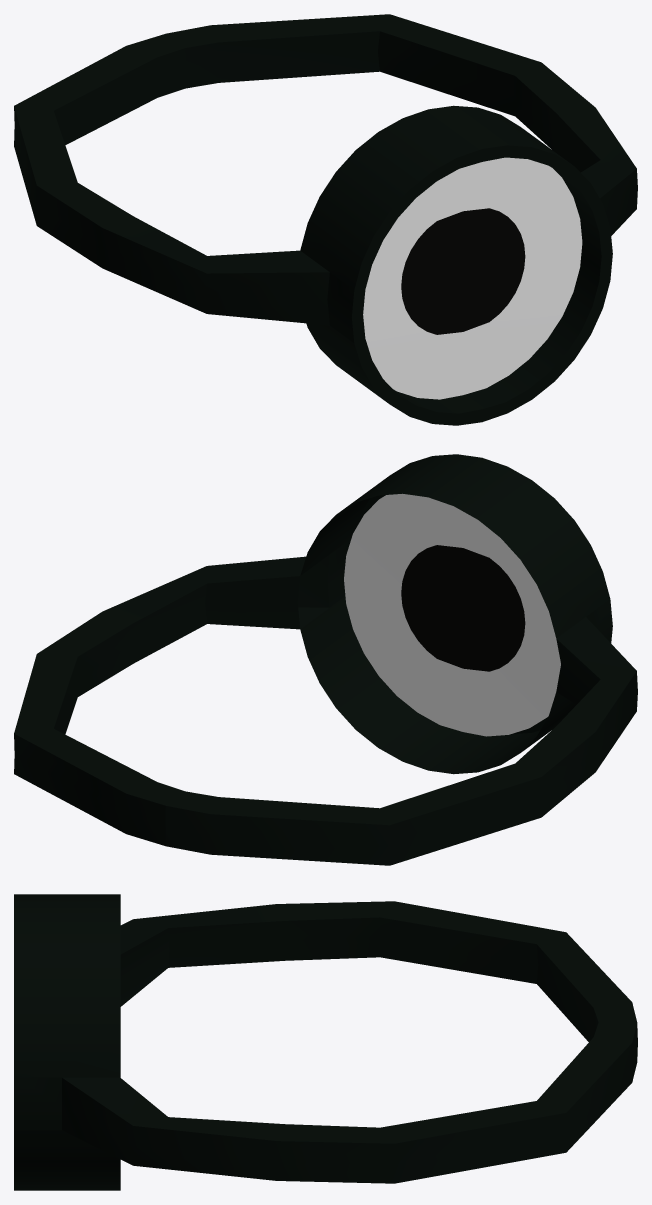
The model's file is Goggles.fbx.
3 renders of one model, top to bottom at view 1: azimuth 30°, elevation 25°; view 2: azimuth 150°, elevation 25°; view 3: azimuth 270°, elevation 25°, orthographic.
Visible parts, largest first — view 1: Cylinder; view 2: Cylinder; view 3: Cylinder.
Boxes of the visible parts, x1,y1,x2,y2 form: Cylinder: (14, 14, 637, 425); Cylinder: (14, 454, 637, 865); Cylinder: (14, 894, 637, 1190).
Bounding box in the file's own units: 188 × 97.01 × 204.
